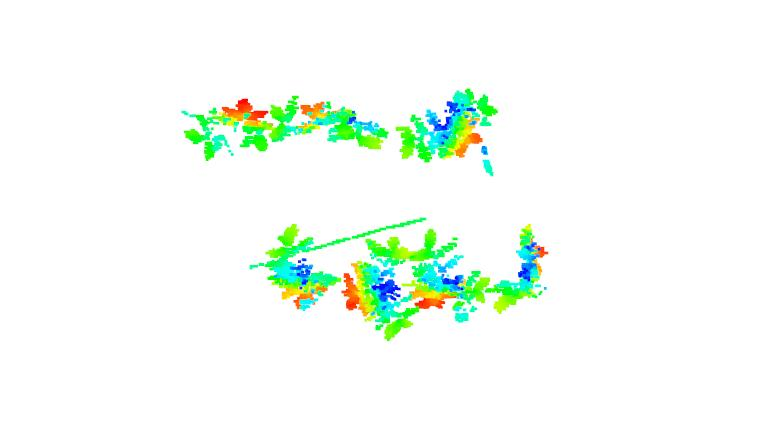chickpea: (395, 85, 497, 180), (341, 239, 419, 339), (261, 225, 343, 319), (411, 227, 489, 324), (491, 222, 548, 322), (179, 99, 272, 159), (319, 107, 393, 155), (269, 90, 323, 154)
